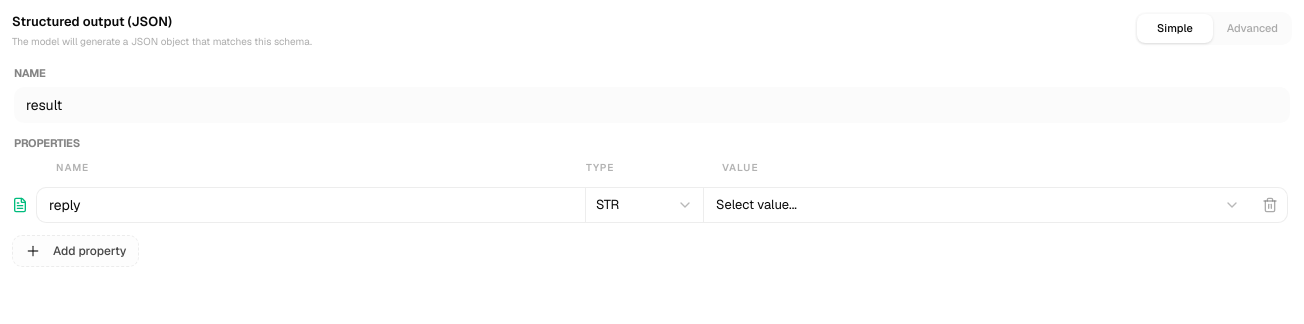
Test case: graph contract editors › appends a new property row in the End simple editor
Click the button "Add property".
click(76, 250)  # box x1=12 y1=234 x2=139 y2=266
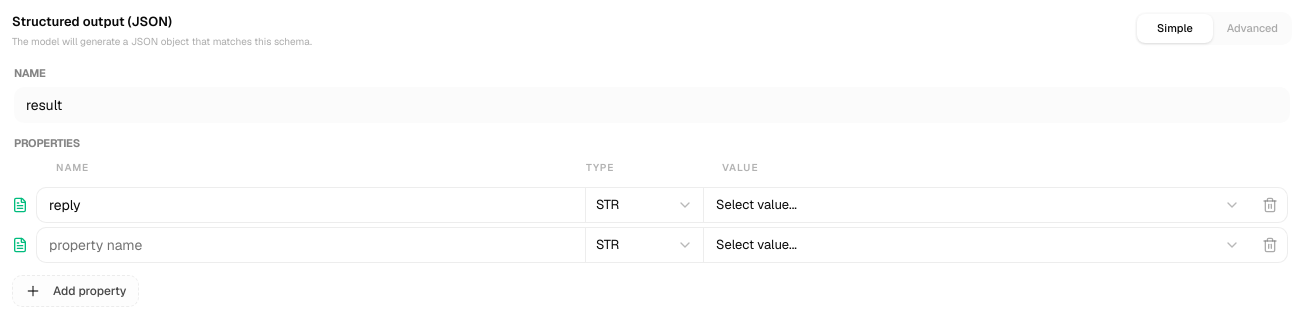
Expected: the number of fields with placeholder "property name" is 2, x1=36 y1=186 x2=585 y2=222; x1=36 y1=226 x2=585 y2=262
